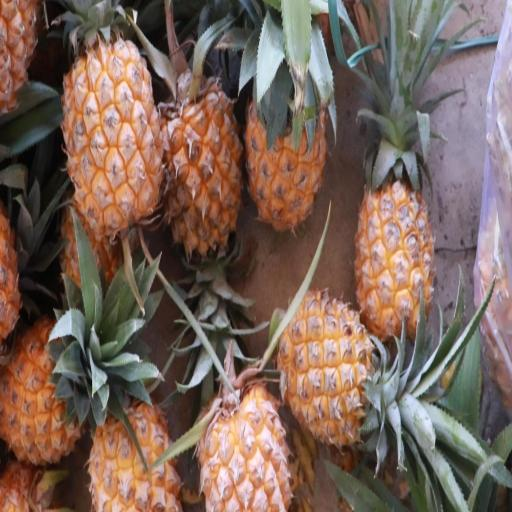Pineapple - v8 v1: (58, 20, 167, 253), (353, 103, 440, 345), (153, 59, 247, 262), (277, 286, 390, 451), (240, 40, 326, 242), (2, 307, 92, 476), (189, 373, 298, 512), (87, 390, 187, 512)
